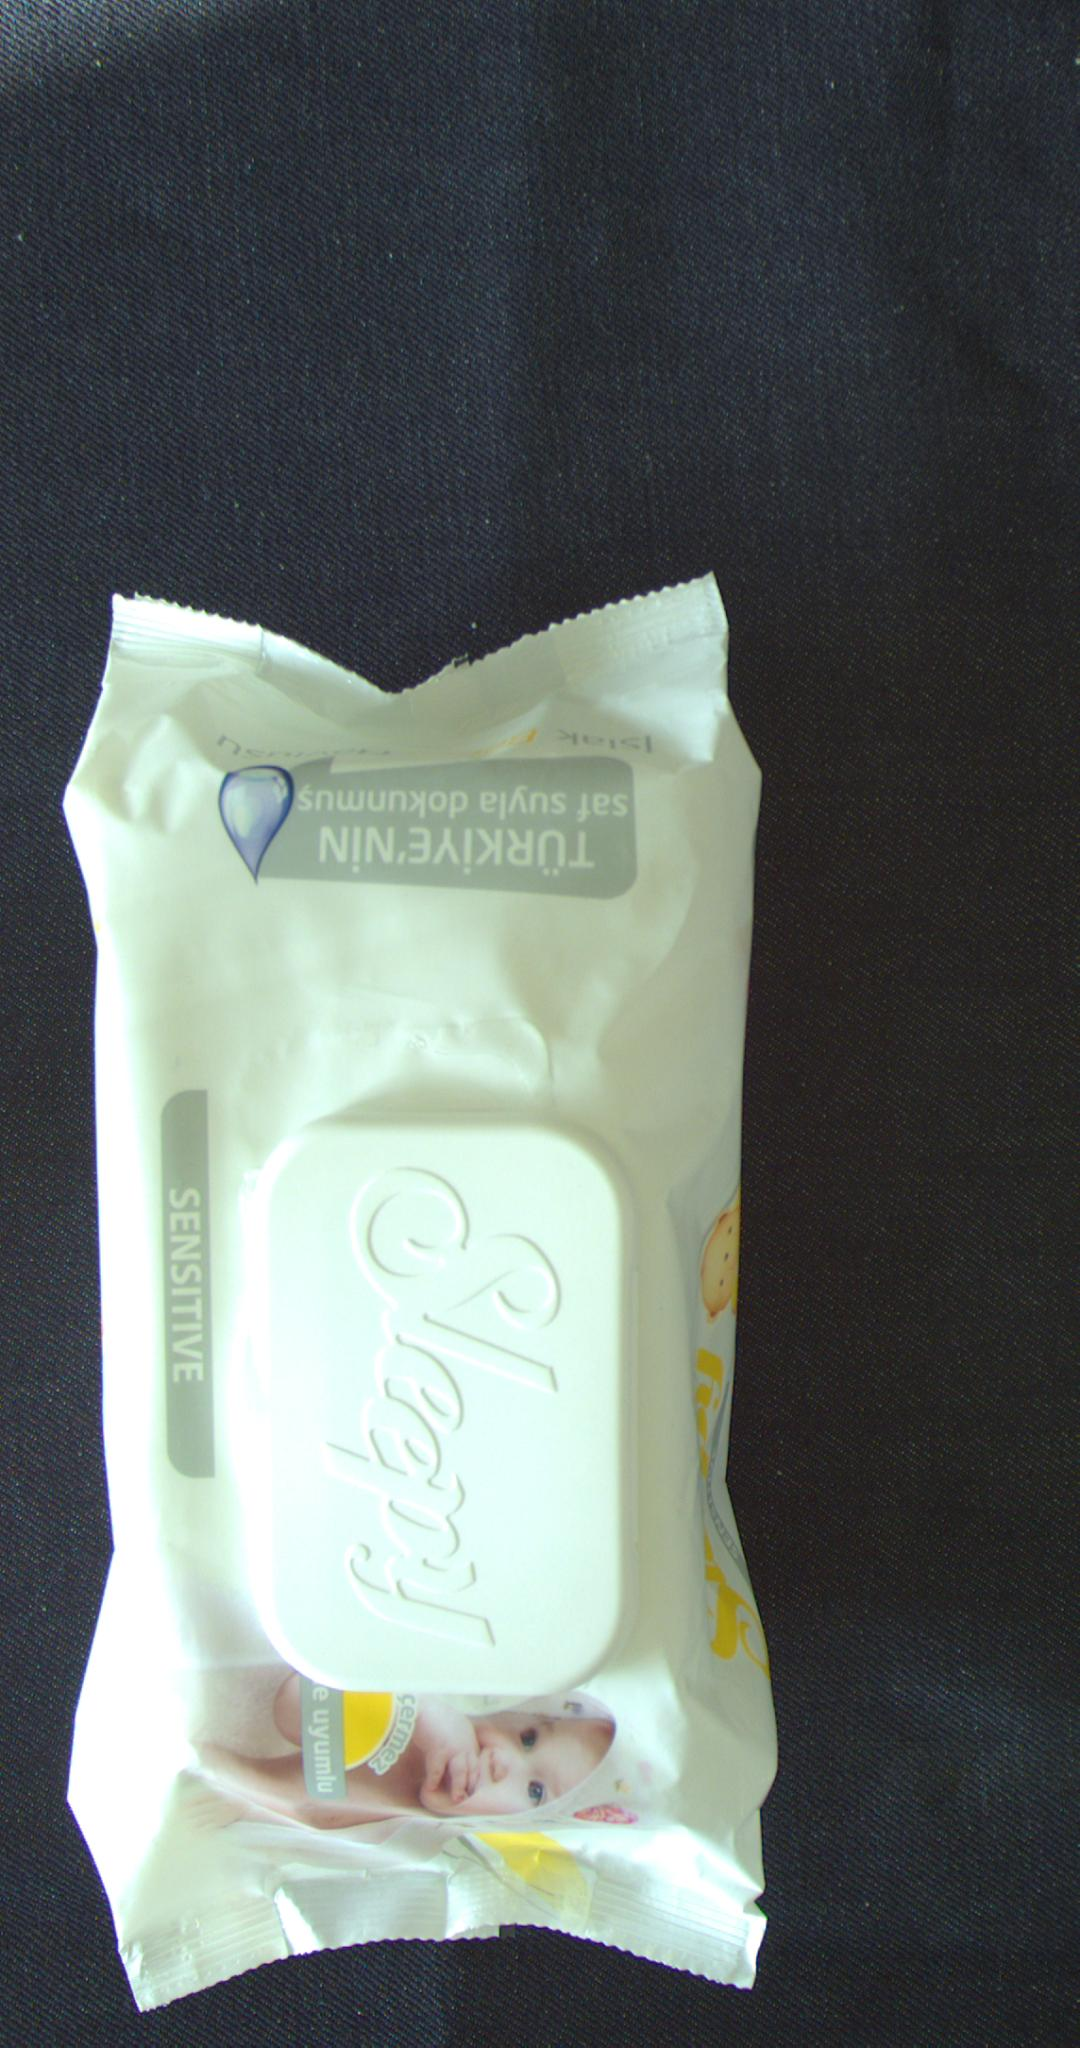kapak: (245, 1126, 630, 1688)
